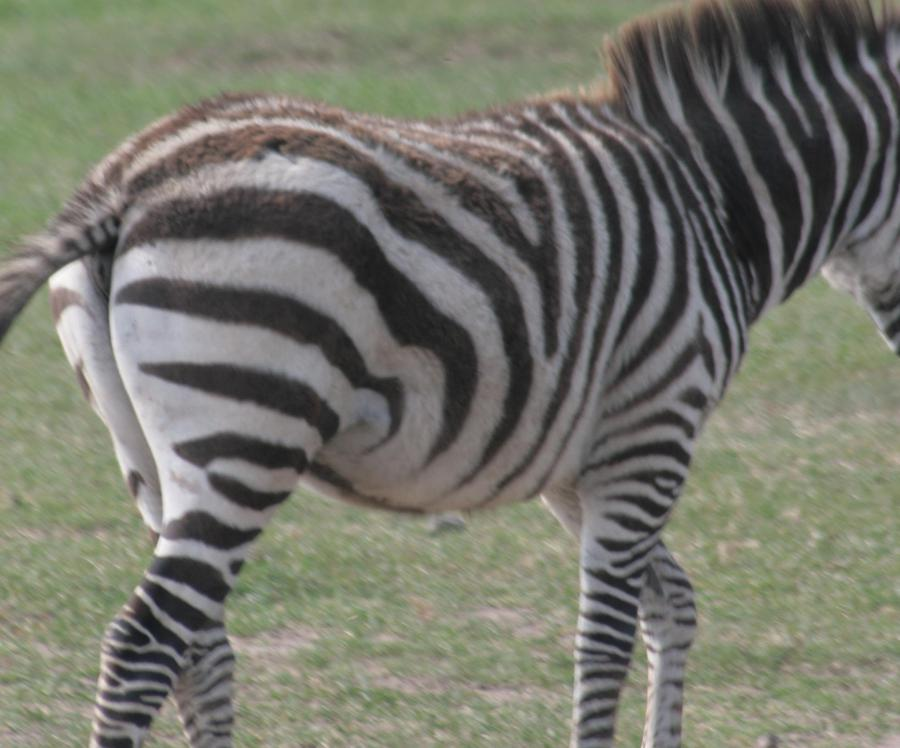zebra_plains: (148, 93, 726, 516)
